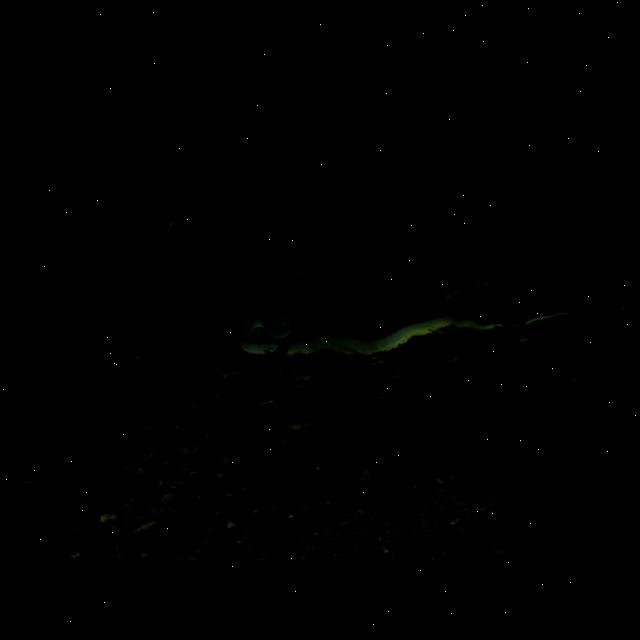snake: (222, 280, 574, 376)
